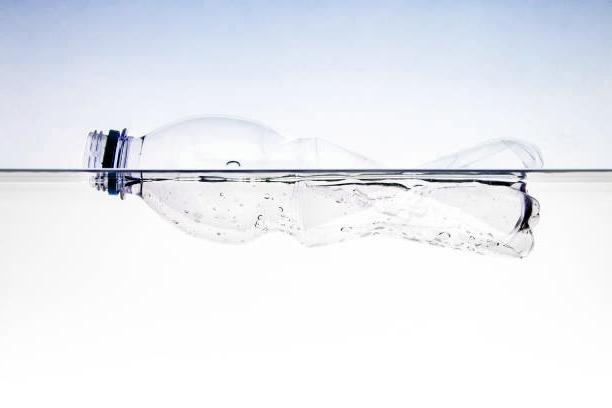Plastic: (73, 108, 541, 260)
